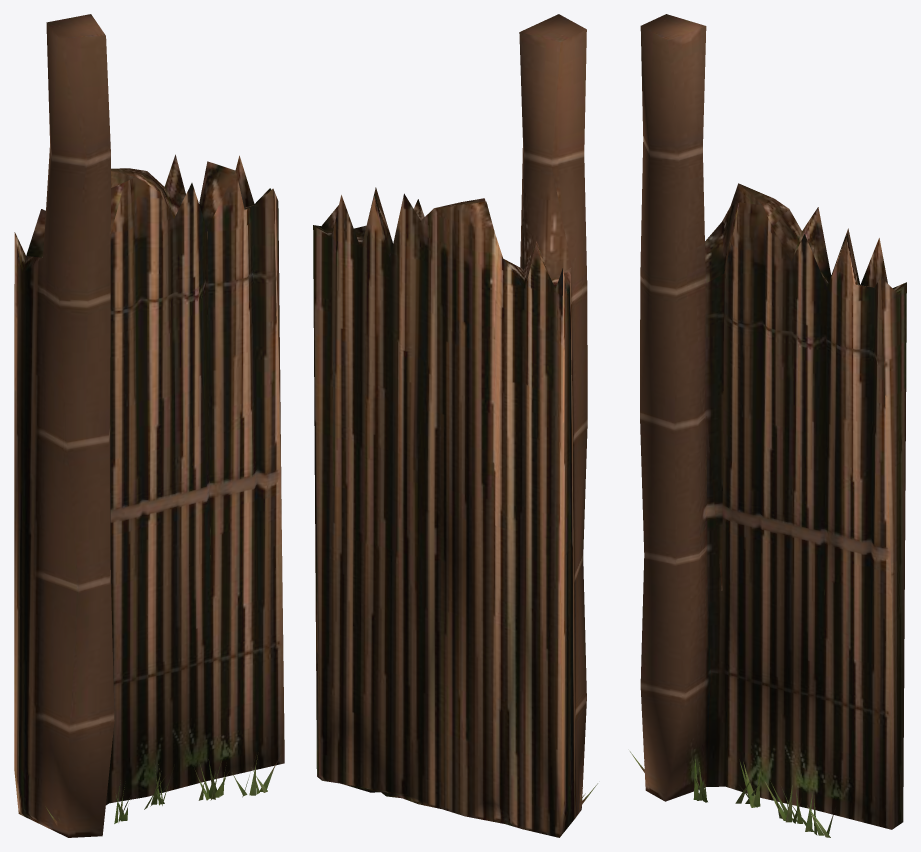
The model's file is fence_reed_end_w_tall_far.glb.
3 views of the same model, side by side, from view 1: azimuth 30°, elevation 25°; view 2: azimuth 150°, elevation 25°; view 3: azimuth 330°, elevation 25° (orthographic). The views are drawn at different scales.
Parts seen in each view (by area): view 1: fence_reed_end_w_tall_lod1; view 2: fence_reed_end_w_tall_lod1; view 3: fence_reed_end_w_tall_lod1.
Part boxes in pixels (<box>): fence_reed_end_w_tall_lod1: <box>14,14,284,837</box>; fence_reed_end_w_tall_lod1: <box>313,14,597,837</box>; fence_reed_end_w_tall_lod1: <box>630,14,906,837</box>.
Bounding box in the file's own units: 0.6336 × 1.87 × 0.1917.
Materials: 1 (1 with a texture image).
